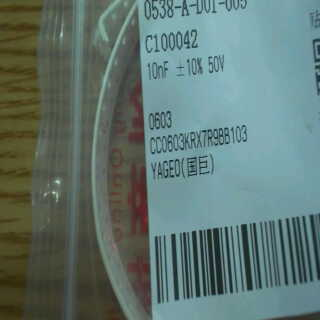10nF: (143, 58, 173, 84)
